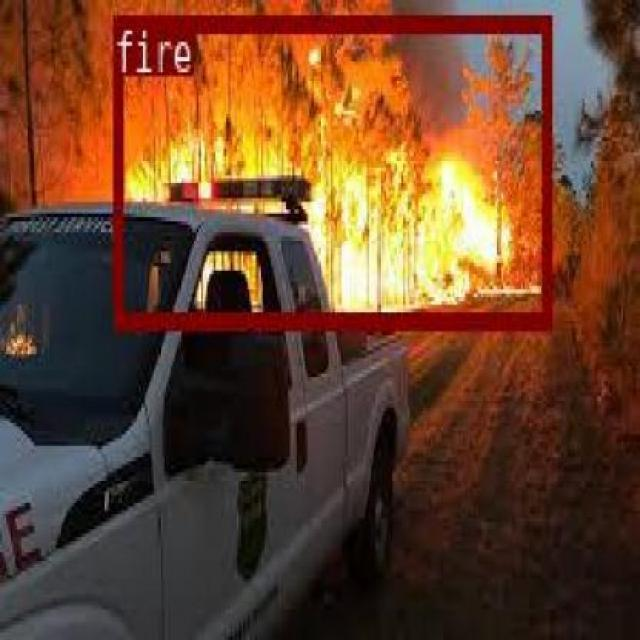Fire: (113, 11, 550, 327)
